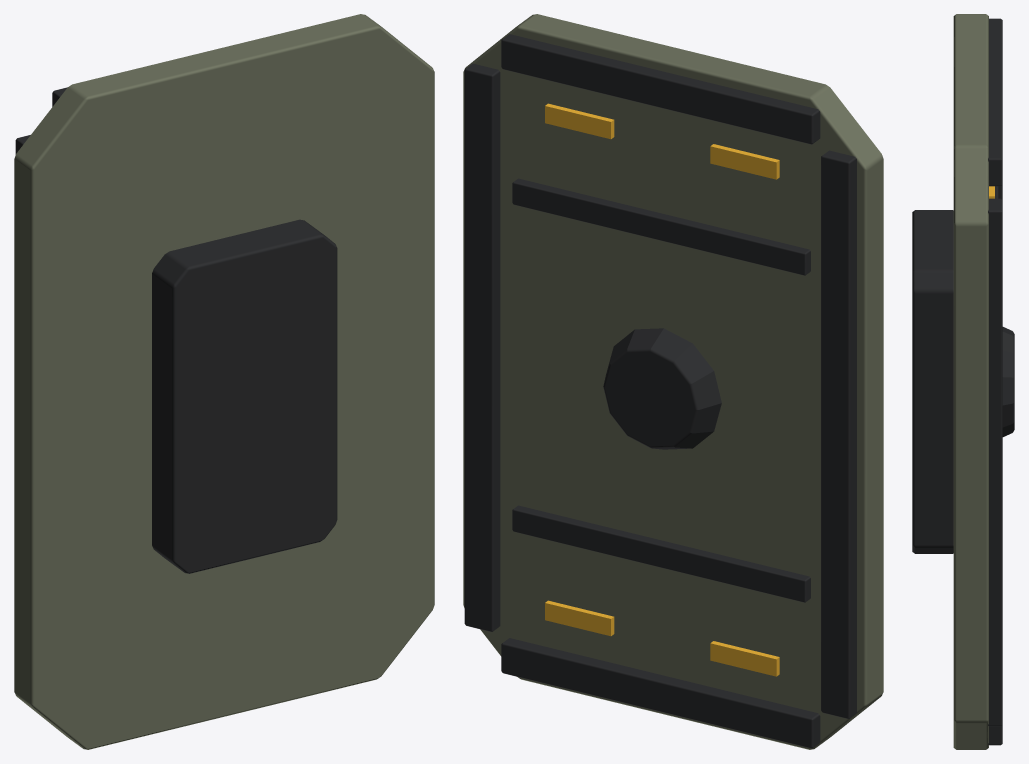
Rendered from small_shield.glb.
3 renders of one model, left to right at view 1: azimuth 30°, elevation 25°; view 2: azimuth 150°, elevation 25°; view 3: azimuth 270°, elevation 25°, orthographic. The views are drawn at different scales.
Parts seen in each view (by area): view 1: Plate, Bracket; view 2: Plate, RimRight, RimLeft, RimTop, RimBottom, Boss, Rib1, Rib0, Mark10, Mark00, Mark01, Mark11; view 3: Plate, Bracket, RimRight, RimTop, Boss, RimBottom.
Part boxes in pixels (x1,y1,x2,y2): Plate: (14, 14, 434, 749); Bracket: (152, 219, 337, 573); Plate: (463, 14, 883, 749); RimRight: (464, 63, 500, 631); RimLeft: (821, 150, 856, 718); RimTop: (501, 34, 820, 144); RimBottom: (501, 638, 820, 748); Boss: (603, 328, 721, 449); Rib1: (512, 505, 810, 602); Rib0: (512, 178, 810, 275); Mark10: (710, 641, 779, 676); Mark00: (710, 144, 779, 179); Mark01: (545, 103, 614, 139); Mark11: (545, 600, 614, 636); Plate: (953, 14, 988, 749); Bracket: (912, 210, 953, 553); RimRight: (988, 198, 1002, 726); RimTop: (988, 18, 1002, 186); Boss: (1002, 327, 1014, 436); RimBottom: (988, 725, 1002, 745).
Size of the model in its own units: 2.2 by 3.4 by 0.52.
